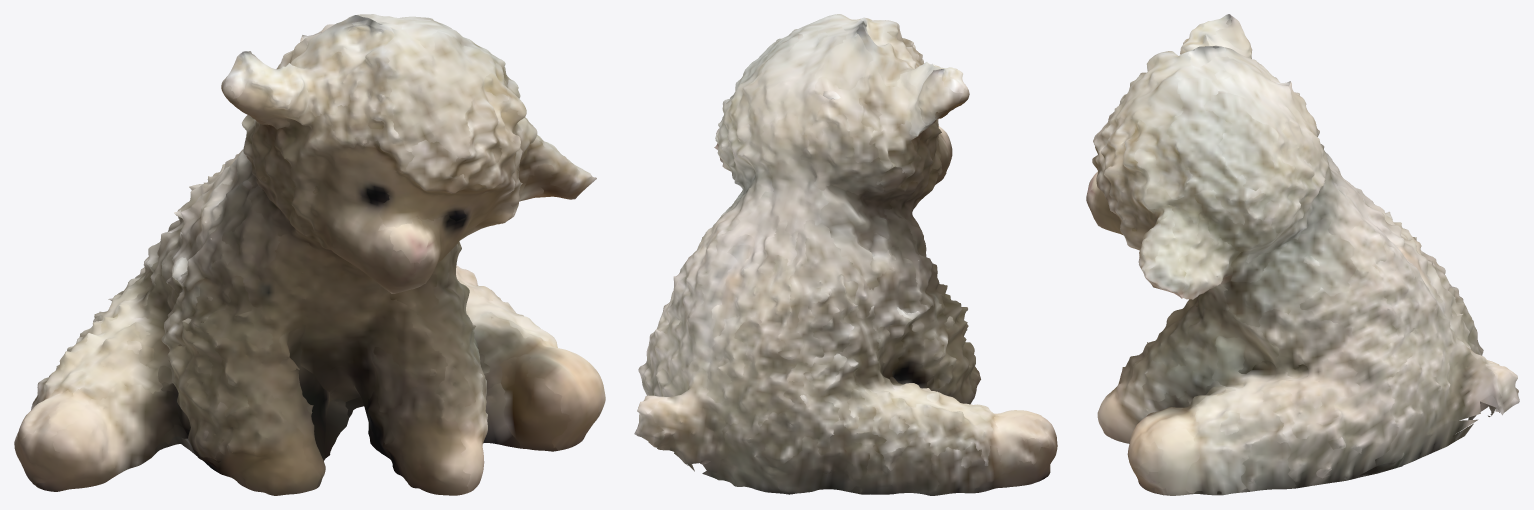
The model's file is teddy_bear.glb.
3 renders of one model, left to right at view 1: azimuth 30°, elevation 25°; view 2: azimuth 150°, elevation 25°; view 3: azimuth 270°, elevation 25°, orthographic. The views are drawn at different scales.
Parts seen in each view (by area): view 1: Object_2, Object_3; view 2: Object_2, Object_3; view 3: Object_3, Object_2.
Part boxes in pixels (left/top/right/bottom): Object_2: left=14, top=14, right=605, bottom=495; Object_3: left=32, top=14, right=605, bottom=492; Object_2: left=635, top=15, right=1057, bottom=494; Object_3: left=634, top=14, right=1011, bottom=495; Object_3: left=1086, top=14, right=1503, bottom=495; Object_2: left=1086, top=14, right=1519, bottom=495.
Size of the model in its own units: 0.2859 by 0.2434 by 0.2579.
Materials: 1 (1 with a texture image).
